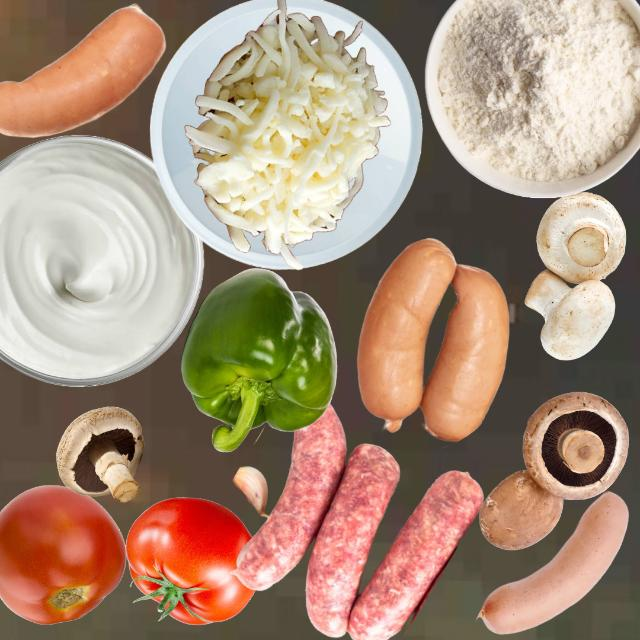Flour: (436, 0, 639, 182)
